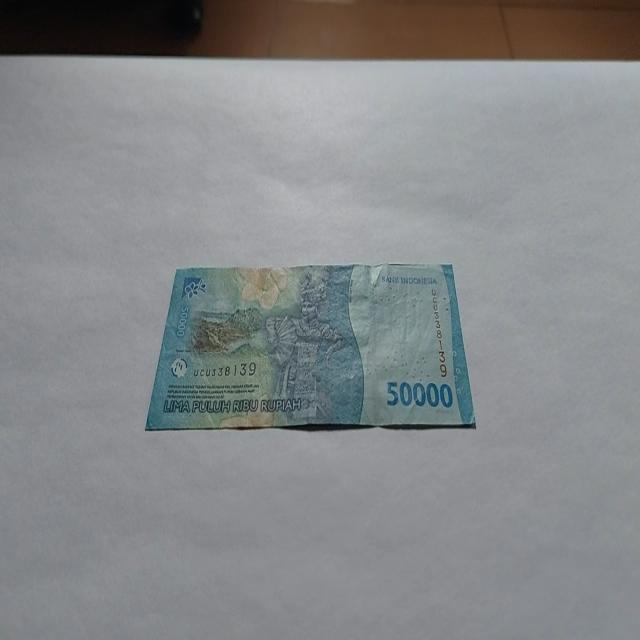lima puluh ribu rupiah: (144, 260, 476, 433)
